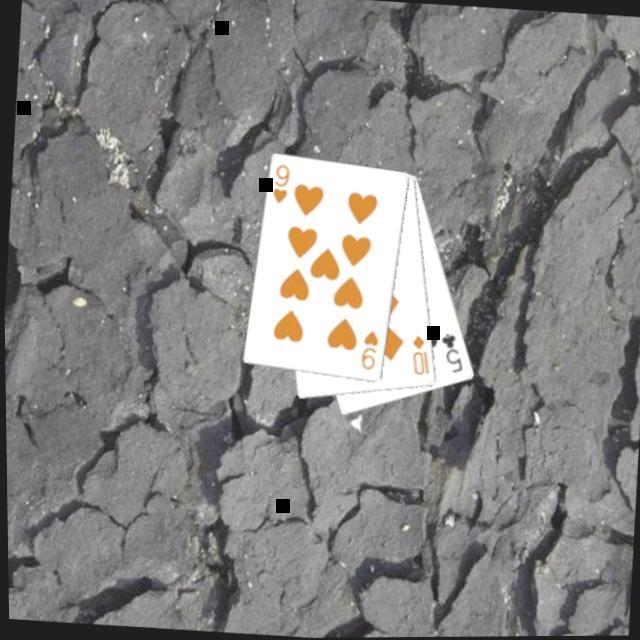10D: (407, 334, 435, 382)
5C: (436, 332, 468, 379)
9H: (357, 329, 383, 376), (268, 164, 294, 209)
